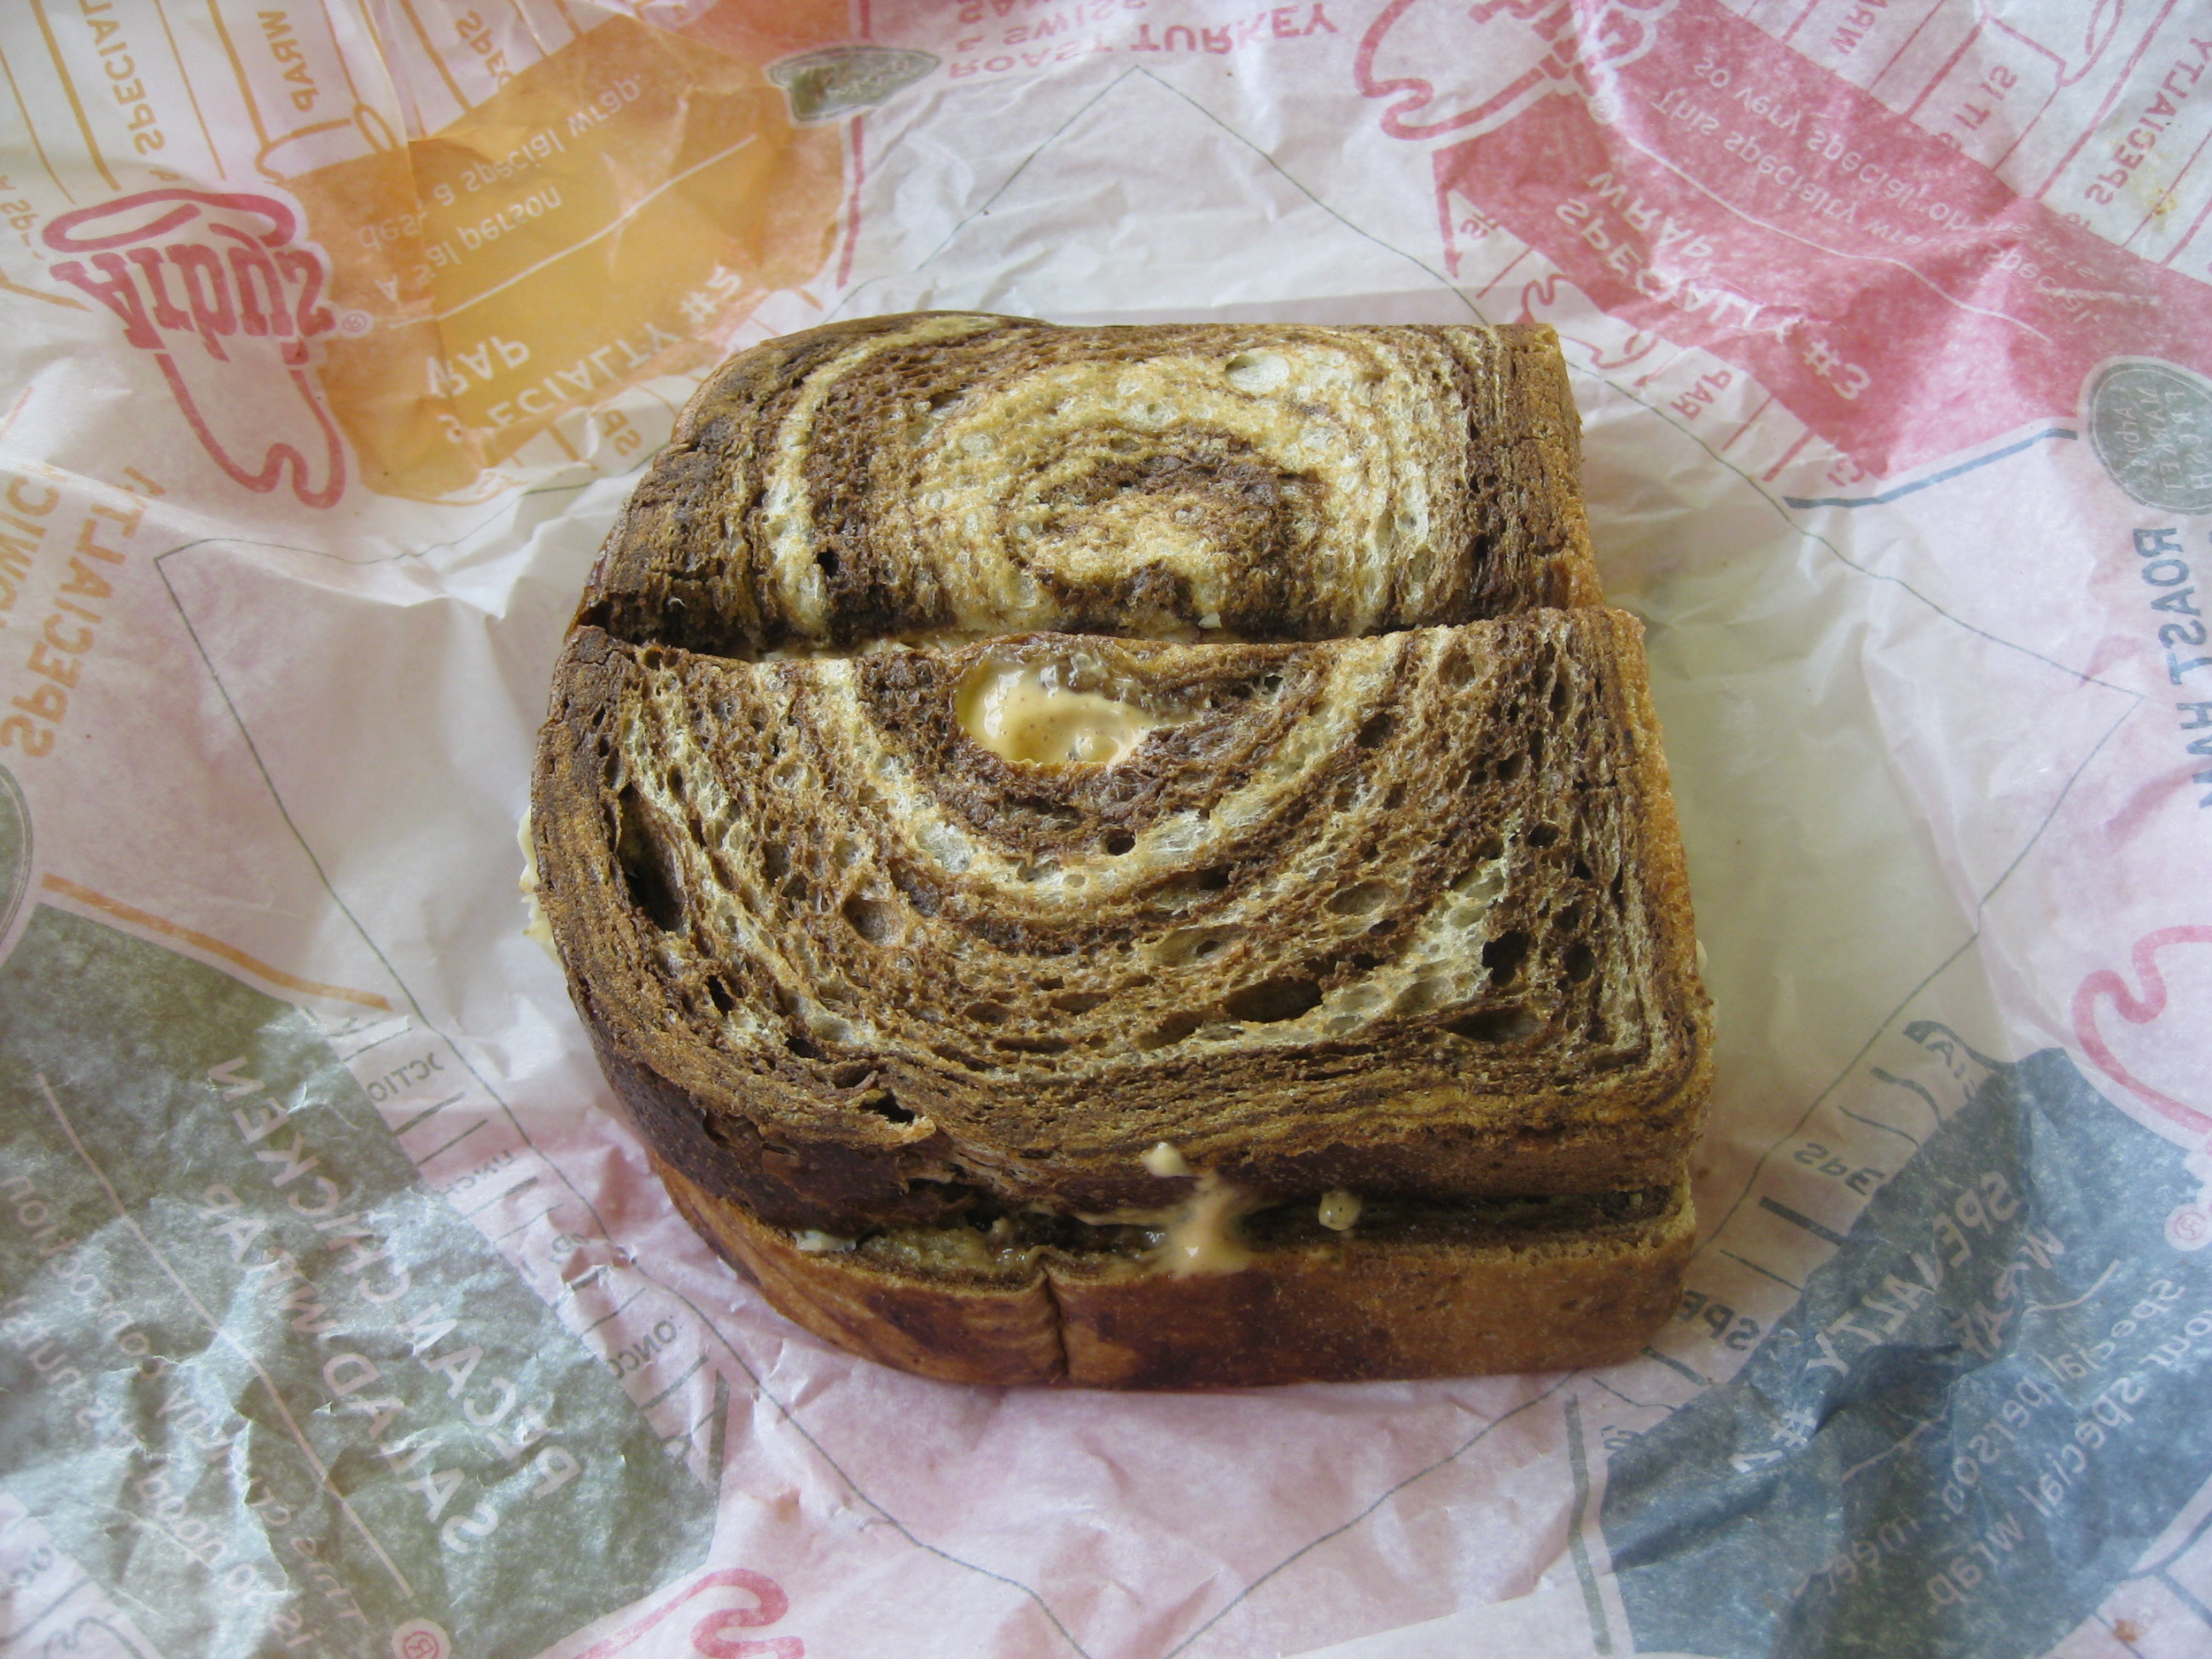sandwich: (490, 236, 1749, 1363)
